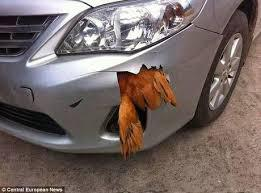front-bumper-dent: (24, 48, 191, 162)
